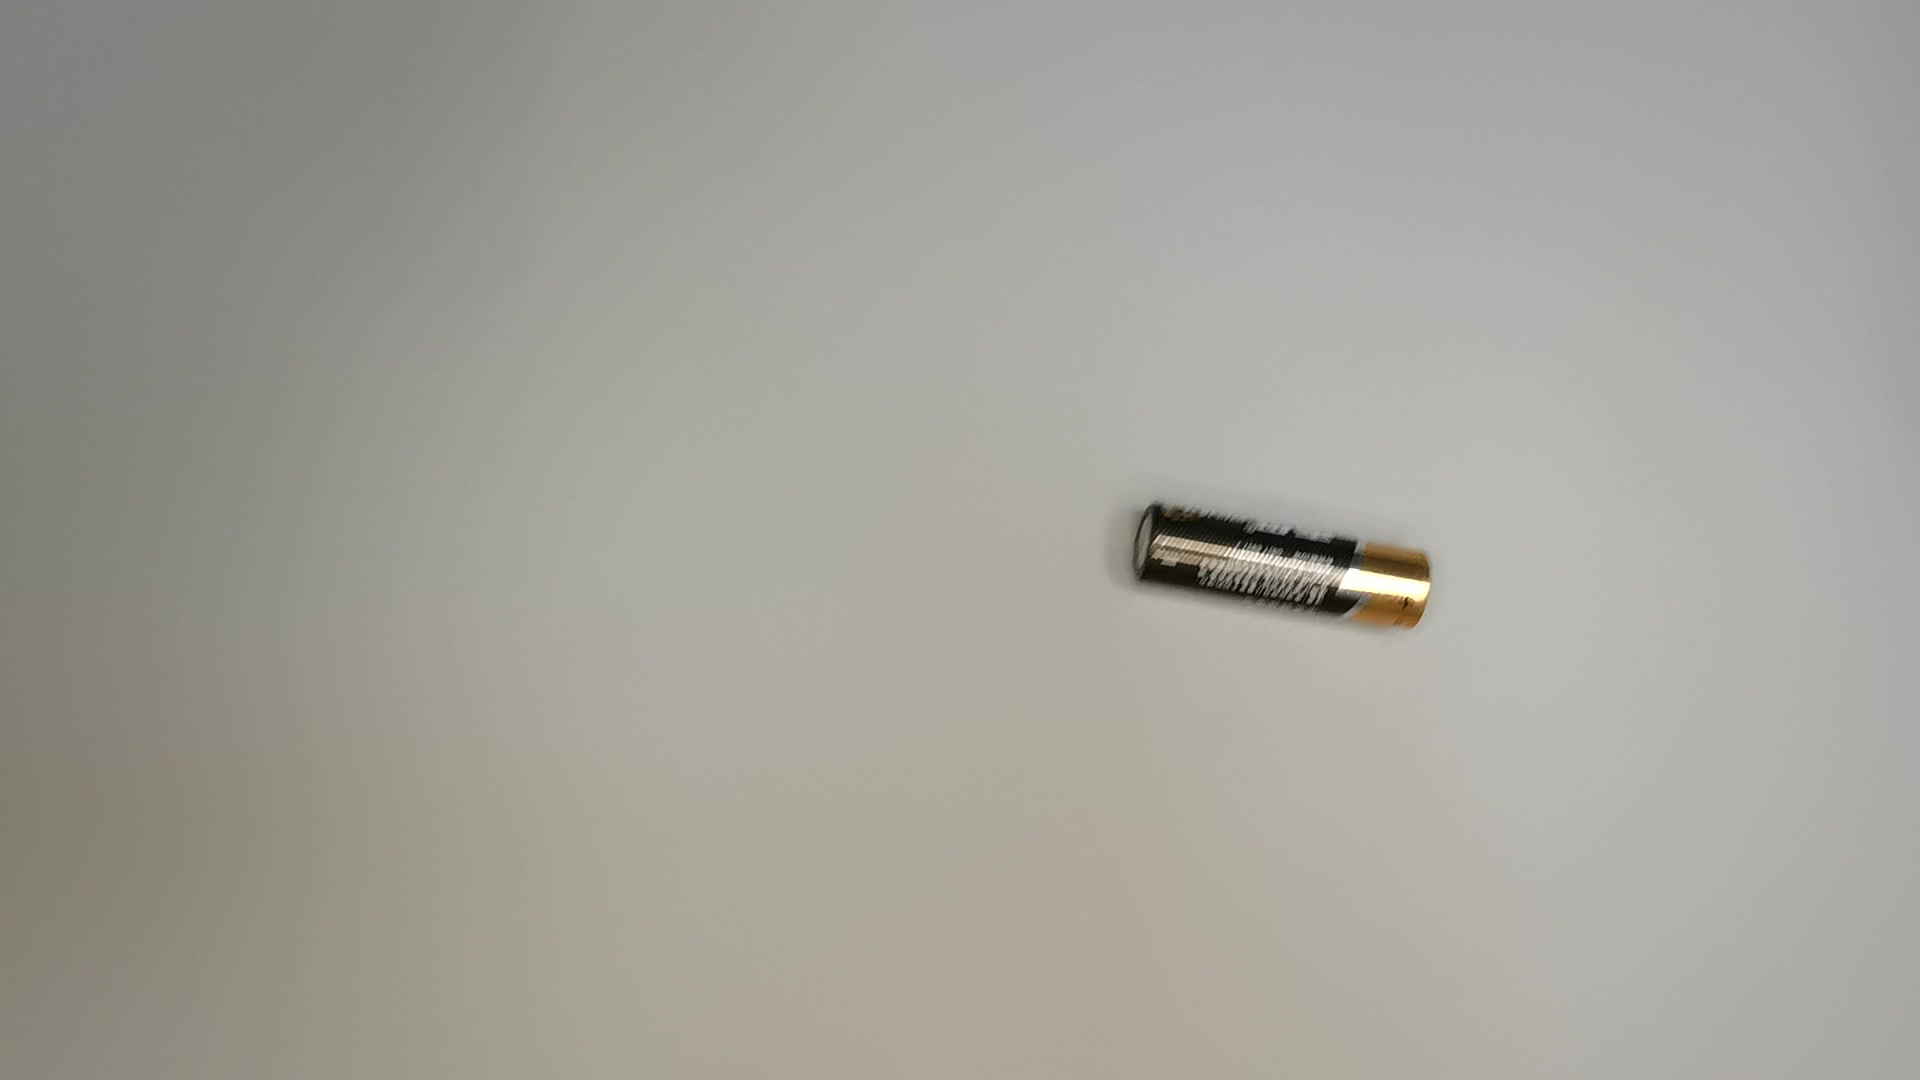battery: (1125, 491, 1451, 638)
